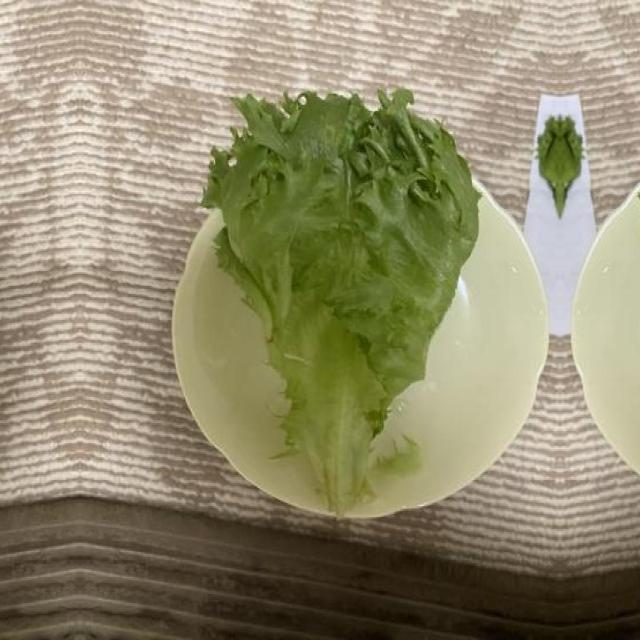healthy: (198, 82, 482, 522), (637, 82, 640, 522)
